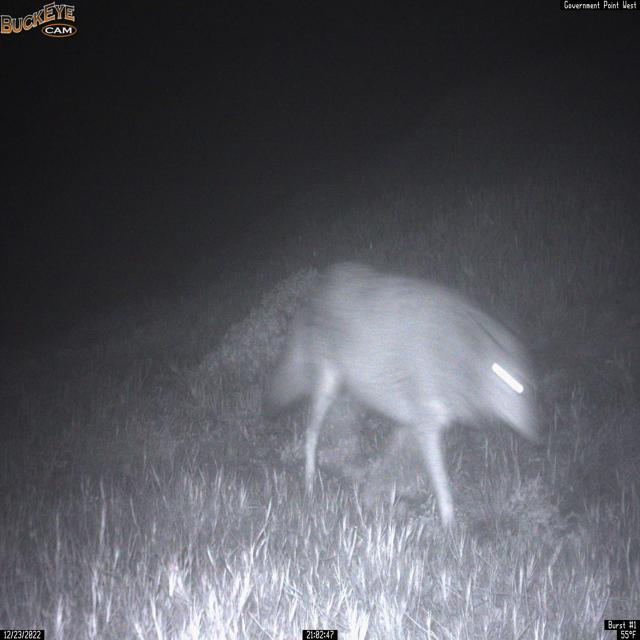coyote: (262, 260, 546, 531)
